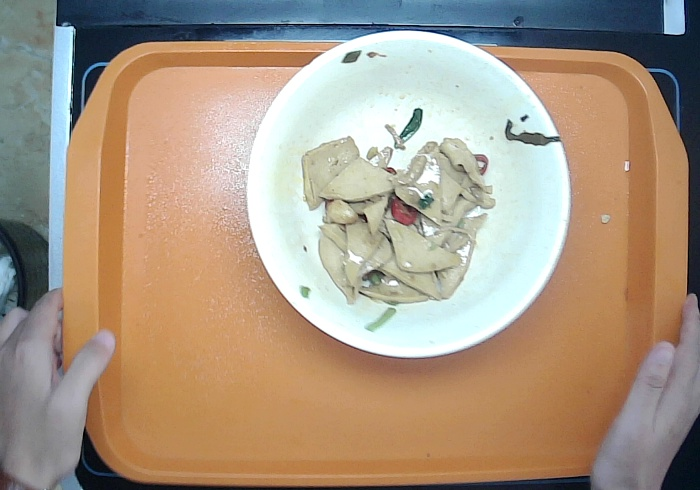ZNLD-Da_Tang_Wan: (244, 28, 573, 363)
